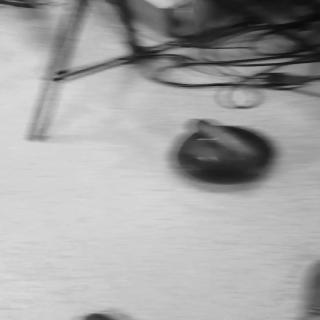girya: (179, 119, 274, 188)
